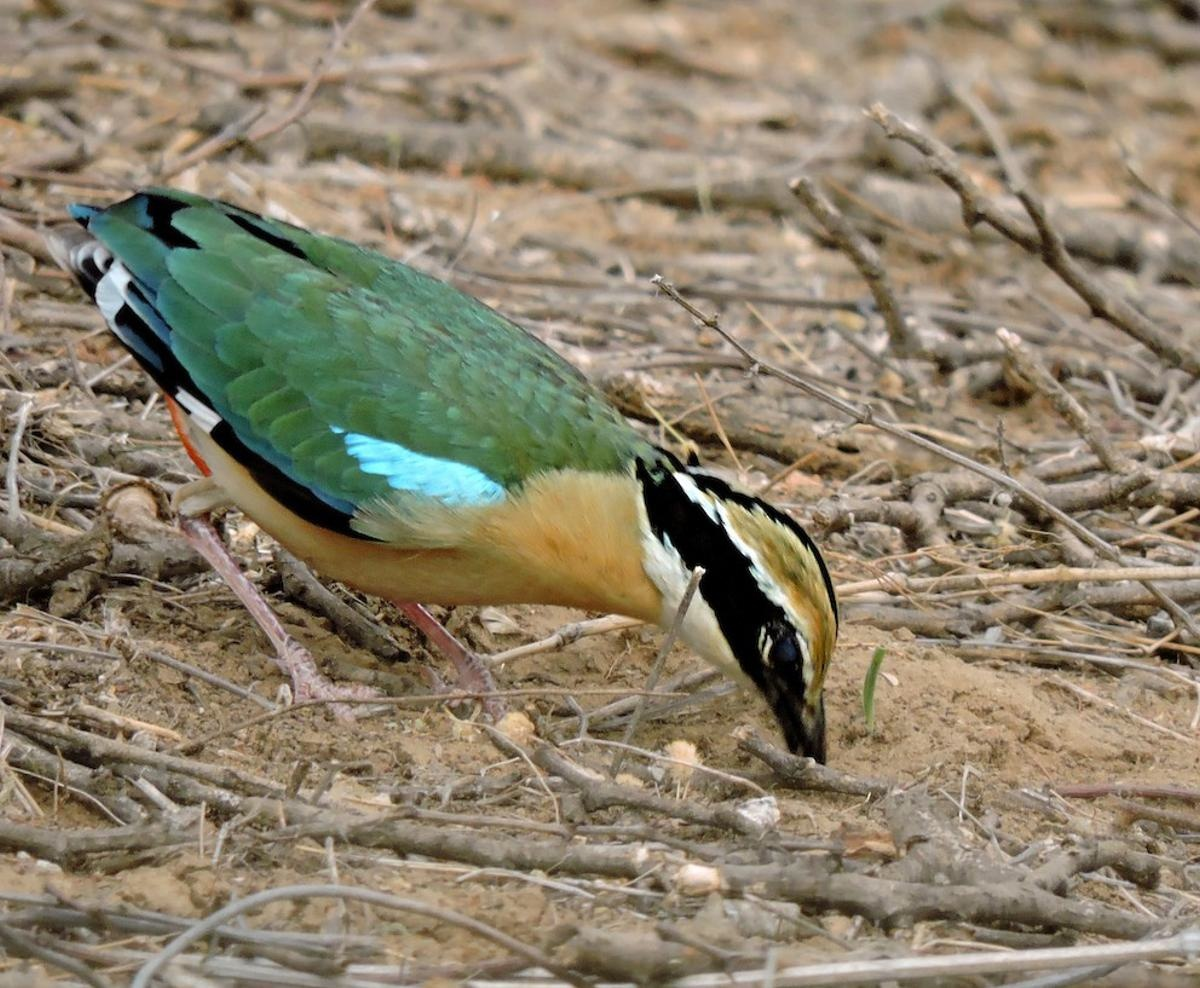pitta: (65, 138, 855, 787)
